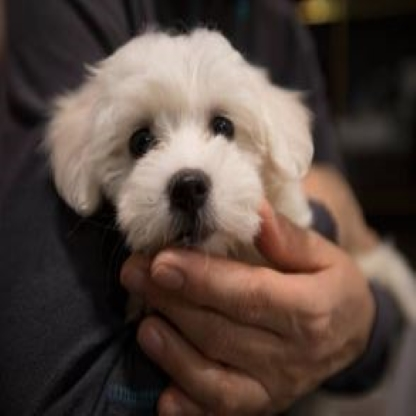maltese: (41, 21, 317, 268)
